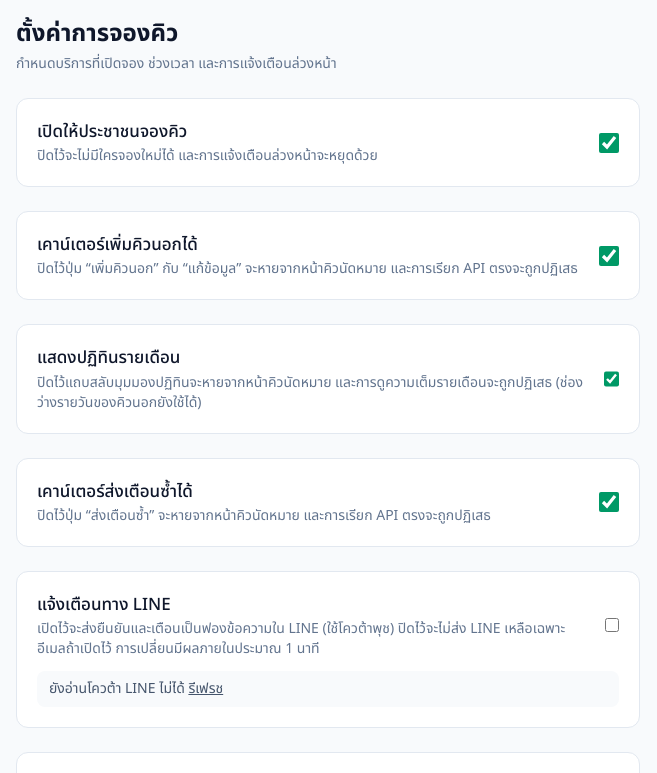
Test: the LINE channel setting › refreshes the quota on demand
expect the heading "ตั้งค่าการจองคิว" is shown: met, box x1=16 y1=16 x2=178 y2=52
expect the text "ยังอ่านโควต้า LINE ไม่ได้ รีเฟรช" is shown: met, box x1=37 y1=671 x2=619 y2=707
Click the button "รีเฟรช" at (206, 689), box x1=188 y1=679 x2=223 y2=699
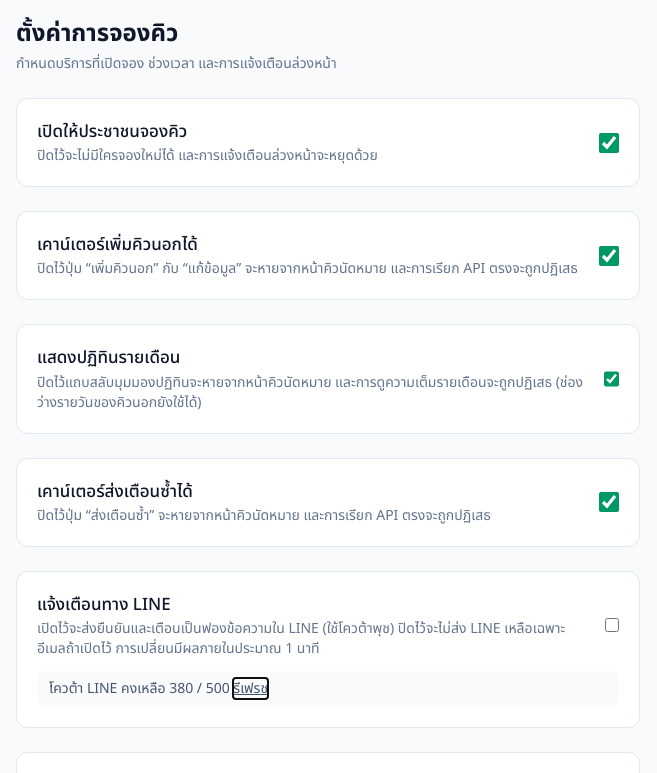
expect the text "โควต้า LINE คงเหลือ 380 / 500" is shown: met, box x1=49 y1=678 x2=230 y2=699
